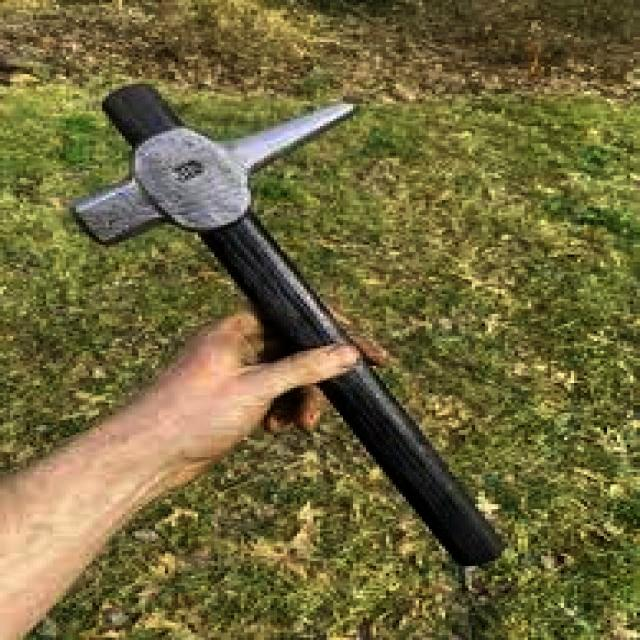hammer: (59, 78, 518, 572)
